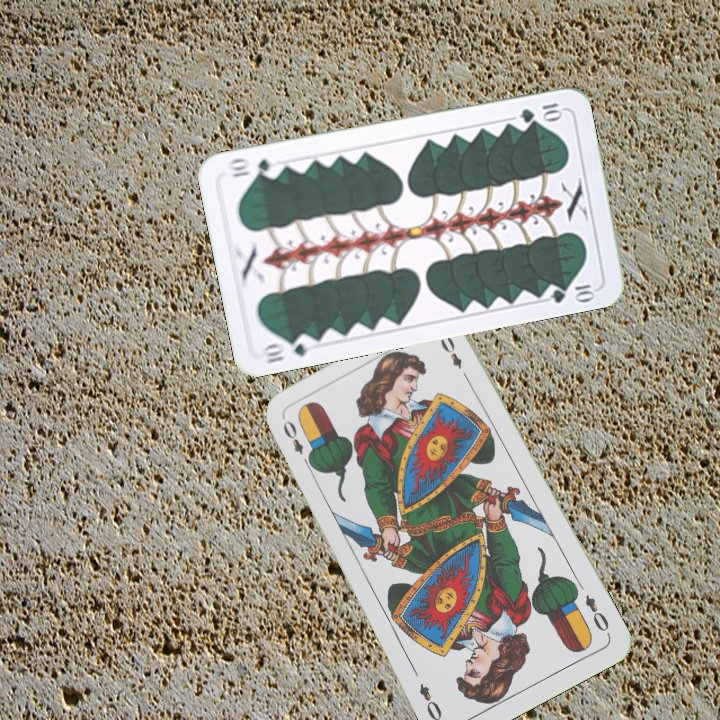EO: (278, 416, 315, 470), (581, 590, 613, 639)
G10: (258, 331, 317, 367), (516, 98, 565, 125)
